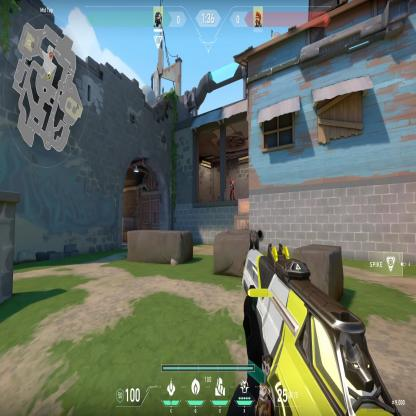enemy: (229, 175, 235, 201)
